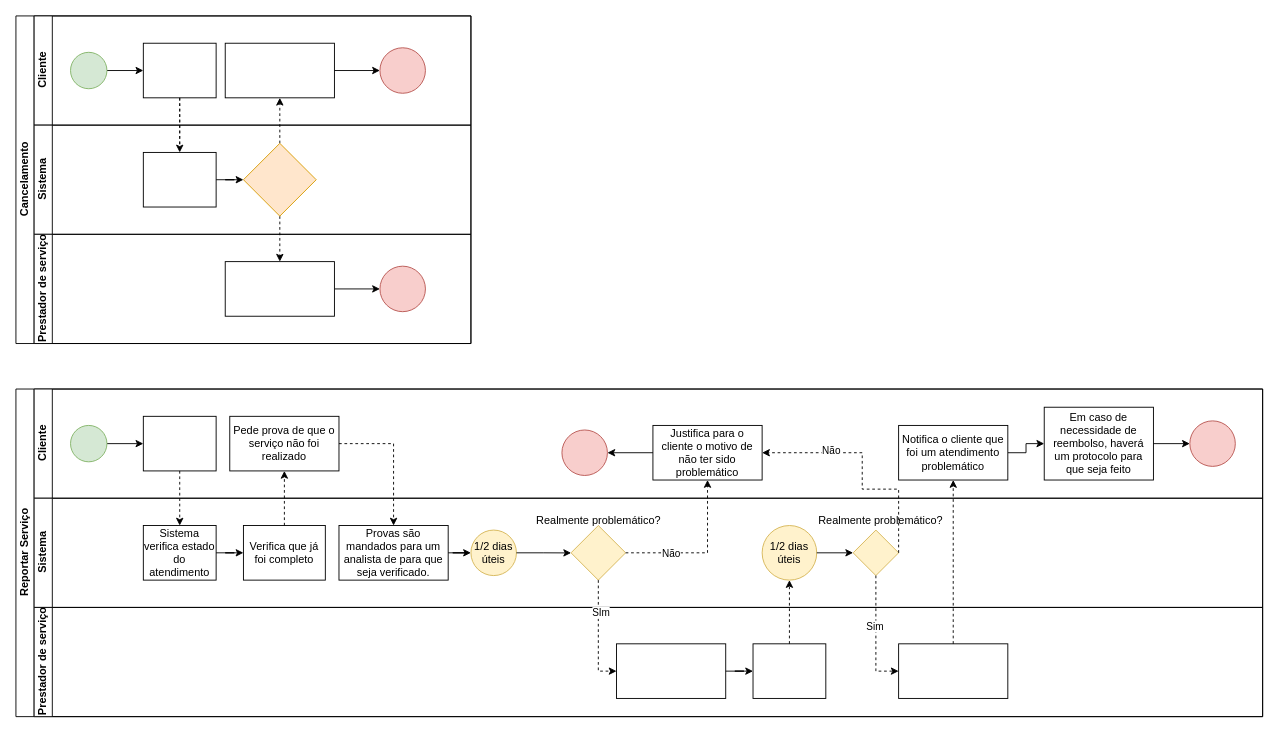
This 1279x733 diagram has some shape labels left out. The shapes that lost their labels are listed below. From the top down, each one's centre as x and y in pixels, then its label:
At (179,70): "Cliente solicita o cancelamento".
At (279,70): "Notifica o cancelamento foi efetivado".
At (179,179): "Controle do sistema quanto ao serviço".
At (279,288): "Notifica o prestador de serviço sobre o cancelamento do atendimento".
At (179,443): "Pede o cancelamento do pedido e reembolso".
At (671,670): "Notifica o prestador que foi um atendimento problemático".
At (789,670): "Pede a justificativa dele".
At (953,670): "Notifica o cliente que foi realmente problemático".
